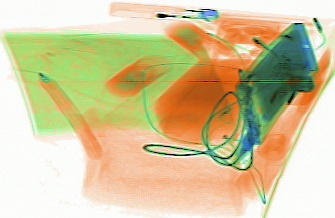lighter: (106, 0, 219, 23)
